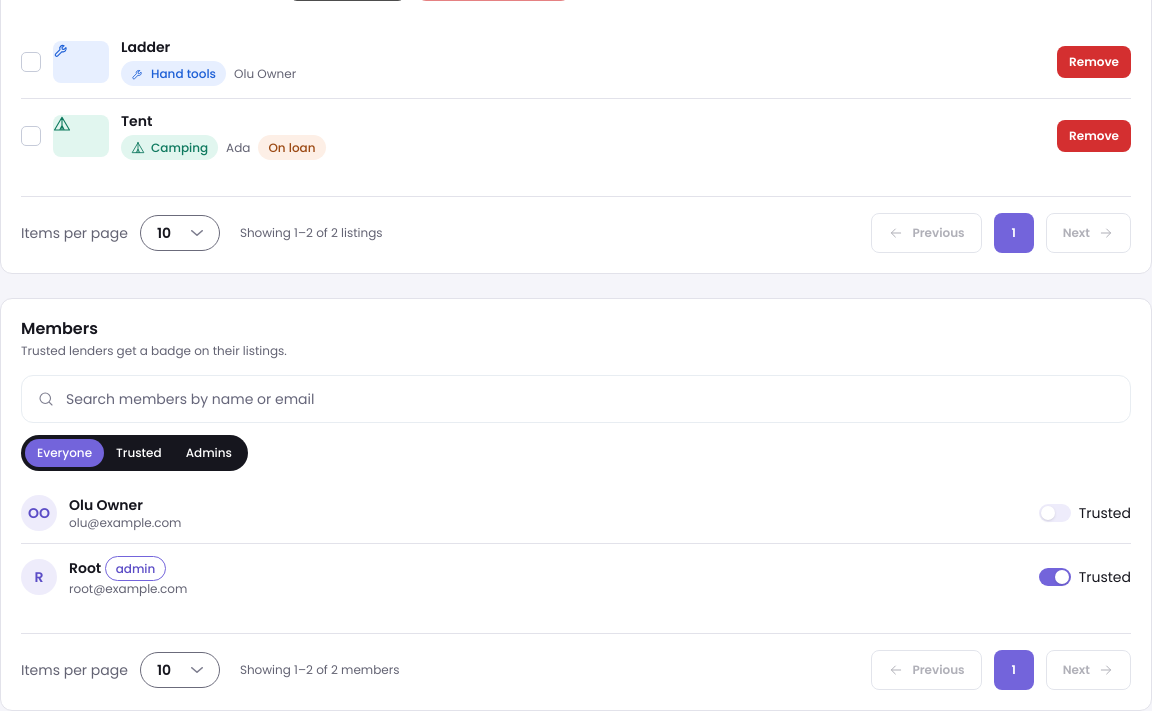
AdminScreen for an admin › a refused action is shown where it happened instead of failing silently
(page scrolled)
Click the switch named "Olu Owner: Trusted" in the row of "olu@example.com" at [1055, 513], box [1039,504,1071,522]
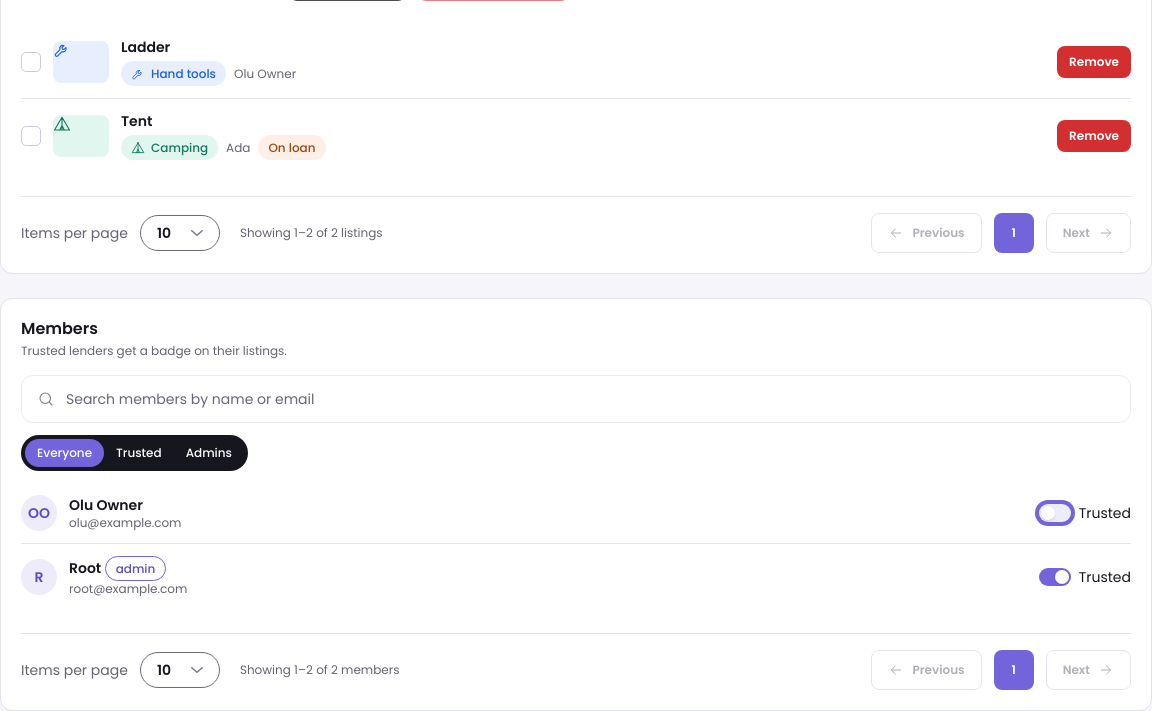
Click the switch named "Olu Owner: Trusted" in the row of "olu@example.com" at [1055, 513], box [1039,504,1071,522]
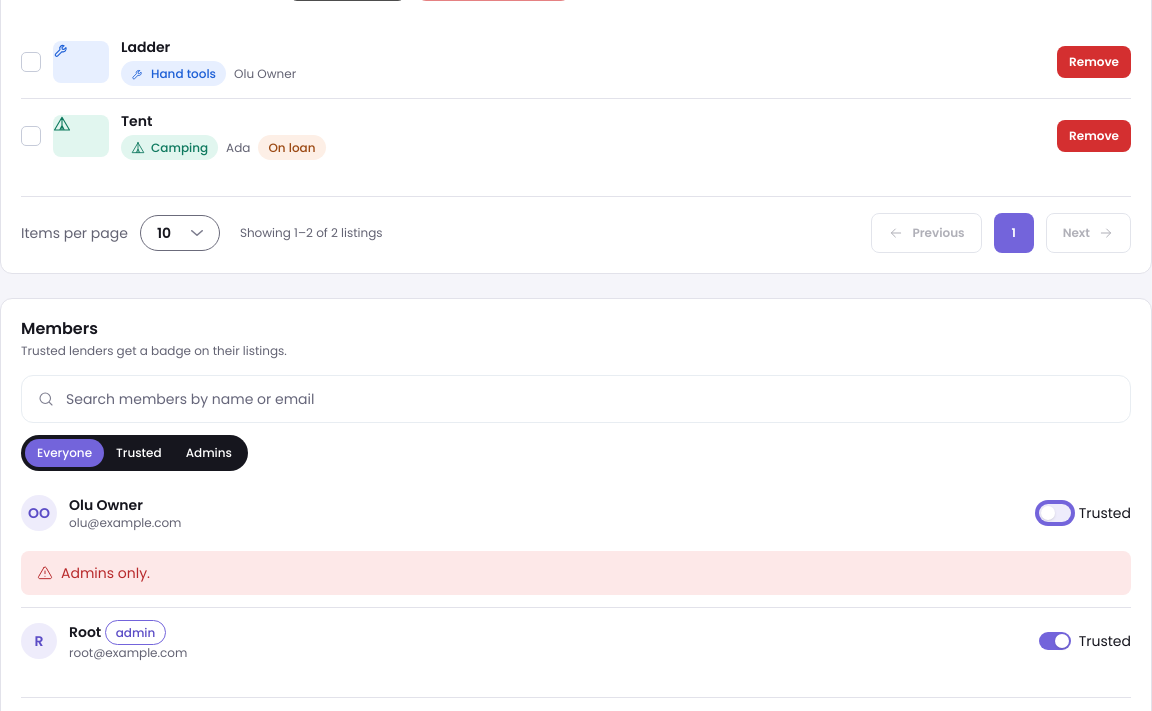
Result: the text "Admins only." is shown at [61,563,150,583]
Click the button with aria-label "Remove Ladder" at [1094, 62], box [1057,46,1131,78]
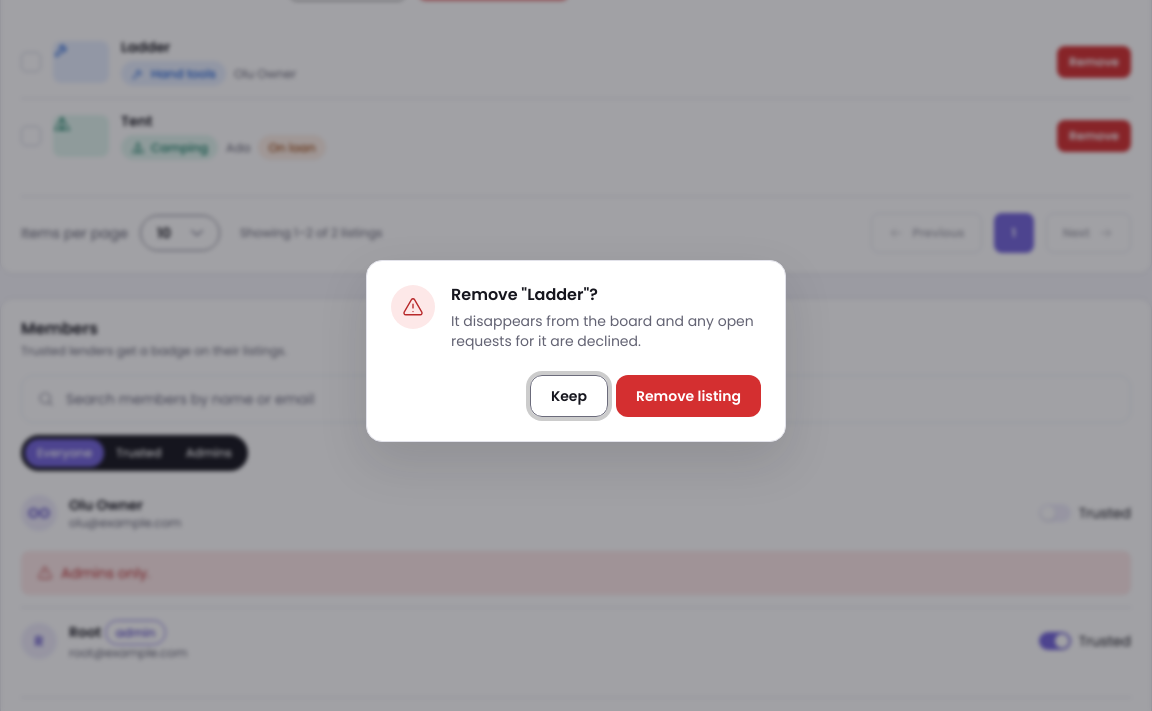
Click the button "Remove listing" at [688, 396], box [616,375,761,417]
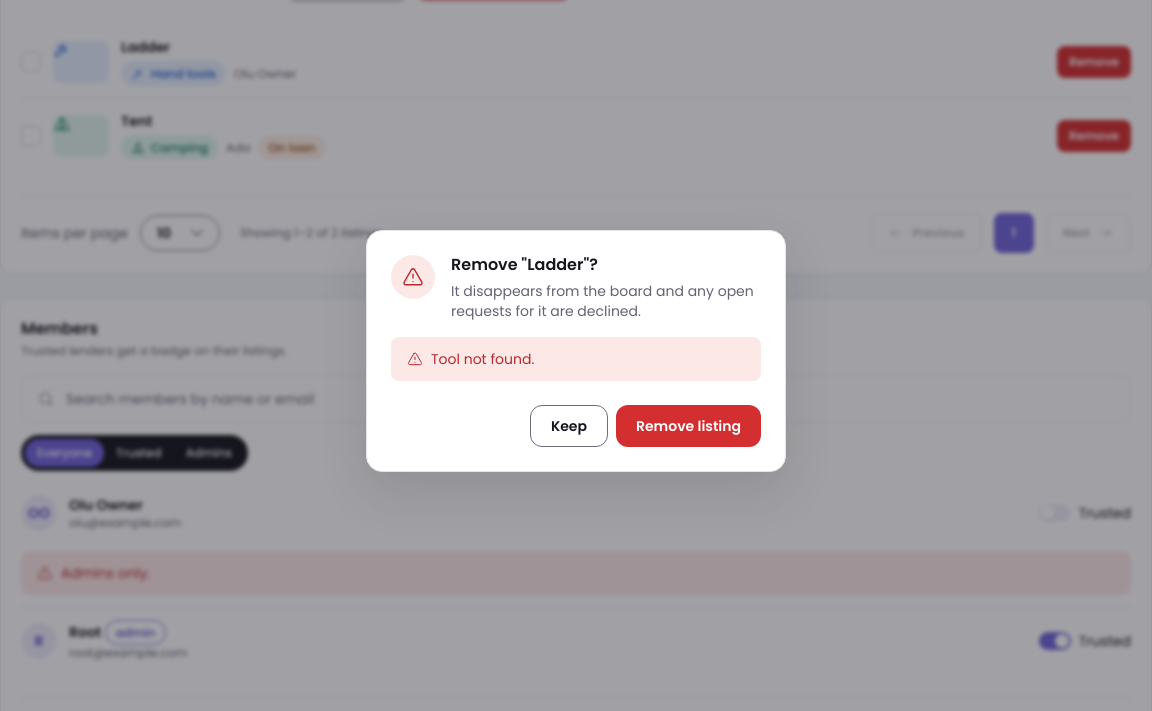
Result: the text "Tool not found." is shown at [431,349,534,369]
